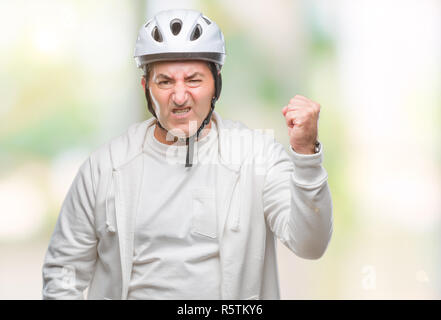helmet: (133, 8, 225, 139)
